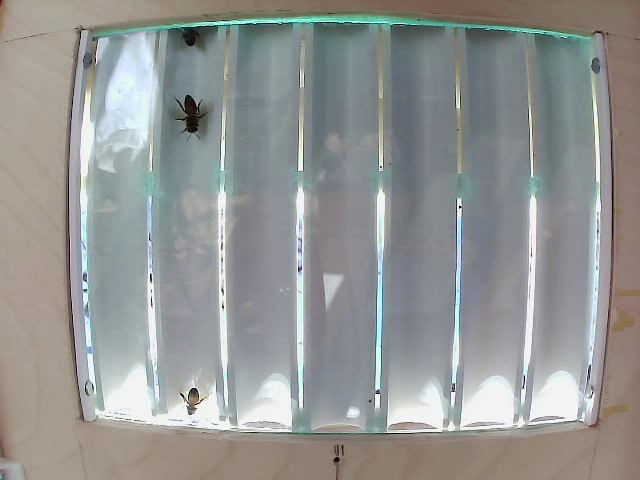bee: (170, 81, 210, 131)
